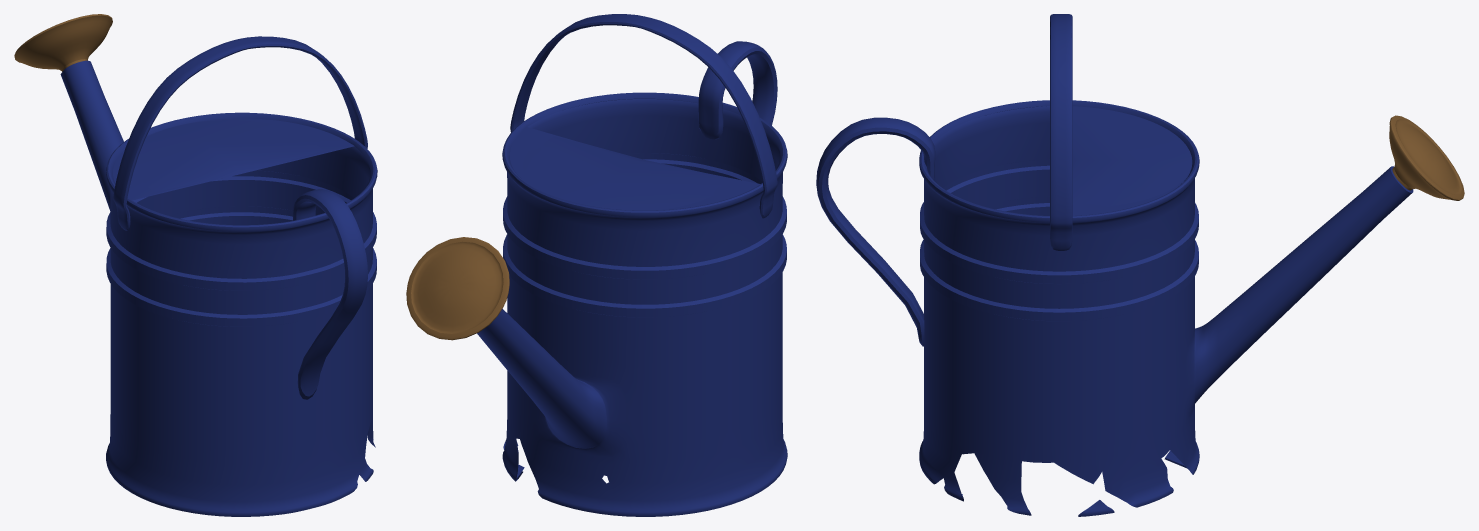
Rendered from wateringcan.fbx.
The picture shows the model from 3 angles, left to right: view 1: azimuth 30°, elevation 25°; view 2: azimuth 150°, elevation 25°; view 3: azimuth 270°, elevation 25°; orthographic projection. The views are drawn at different scales.
Parts seen in each view (by area): view 1: Cylinder.009; view 2: Cylinder.009; view 3: Cylinder.009.
Part boxes in pixels (x1,y1,x2,y2): Cylinder.009: (14,14,377,516); Cylinder.009: (406,14,787,516); Cylinder.009: (816,14,1464,516).
Size of the model in its own units: 215 by 349 by 475.
